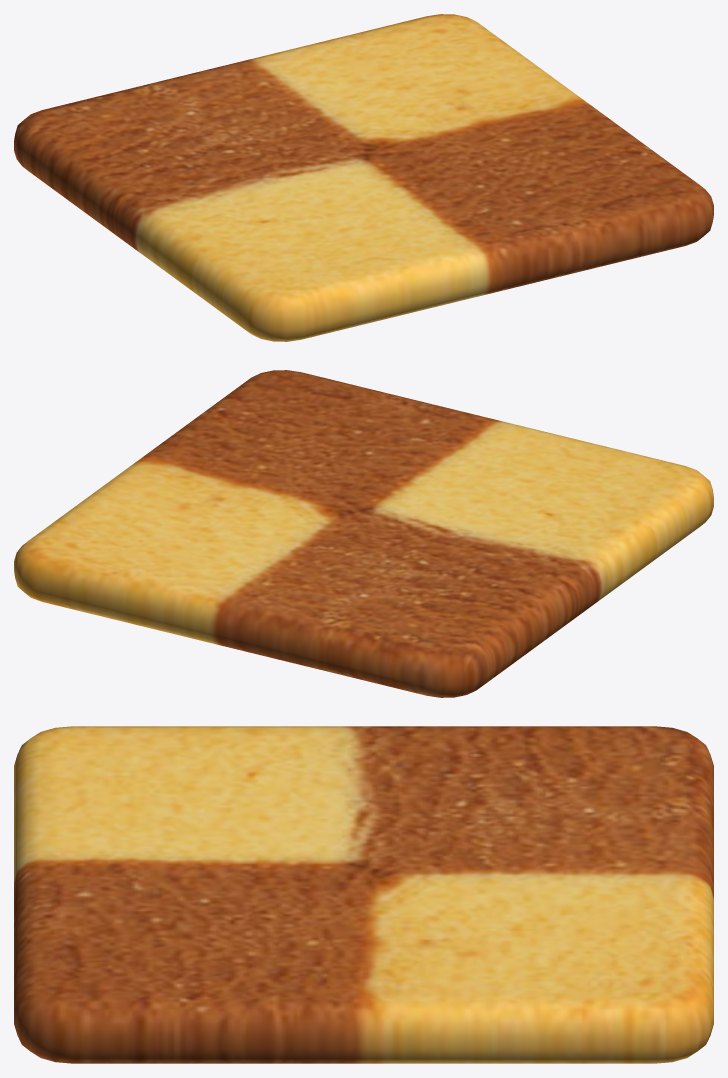
The model's file is candy_waf_9.fbx.
3 views of the same model, one above another, from view 1: azimuth 30°, elevation 25°; view 2: azimuth 150°, elevation 25°; view 3: azimuth 270°, elevation 25° (orthographic). The views are drawn at different scales.
Parts seen in each view (by area): view 1: c_w_9; view 2: c_w_9; view 3: c_w_9.
Boxes of the visible parts, <box> form: c_w_9: <box>14,14,713,341</box>; c_w_9: <box>14,370,713,697</box>; c_w_9: <box>14,726,713,1063</box>.
Size of the model in its own units: 179 by 16.67 by 179.
